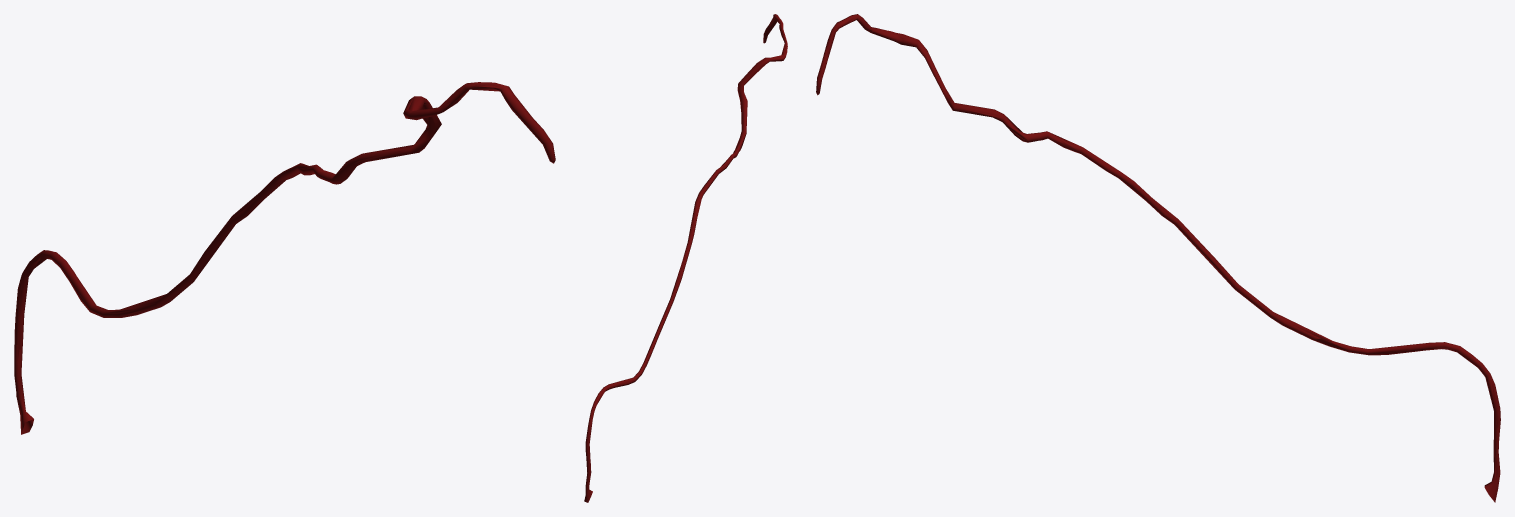
File: L arteria vertebralis.fbx
The picture shows the model from 3 angles, left to right: view 1: azimuth 30°, elevation 25°; view 2: azimuth 150°, elevation 25°; view 3: azimuth 270°, elevation 25°; orthographic projection. The views are drawn at different scales.
Visible parts, largest first — view 1: L arteria vertebralis, L arteria vertebralis low; view 2: L arteria vertebralis, L arteria vertebralis low; view 3: L arteria vertebralis, L arteria vertebralis low.
Boxes of the visible parts, <box> form: L arteria vertebralis: <box>14,82,555,434</box>; L arteria vertebralis low: <box>15,85,550,431</box>; L arteria vertebralis: <box>584,14,787,502</box>; L arteria vertebralis low: <box>586,16,786,497</box>; L arteria vertebralis: <box>816,14,1500,502</box>; L arteria vertebralis low: <box>818,17,1499,483</box>.
Size of the model in its own units: 3.91 by 23.12 by 28.76.
